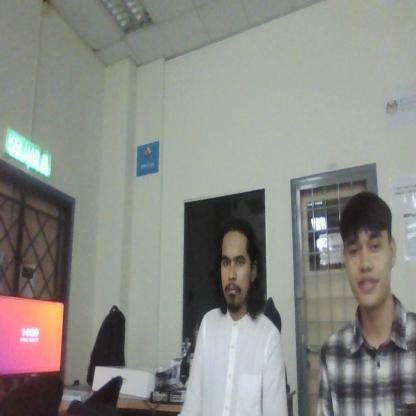Open-Eyes: (345, 230, 387, 262), (218, 248, 247, 270)
